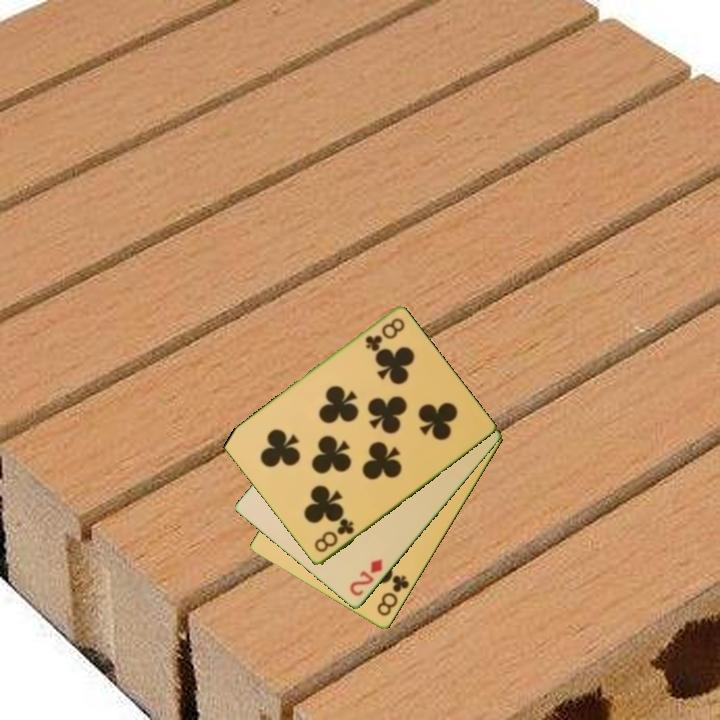2d: (346, 555, 386, 600)
8c: (310, 515, 357, 556), (361, 314, 408, 354), (373, 572, 412, 620)
